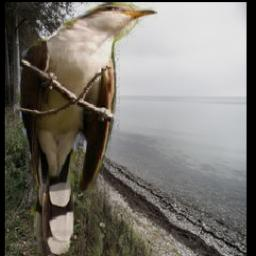Cuckoo: (16, 3, 158, 256)
